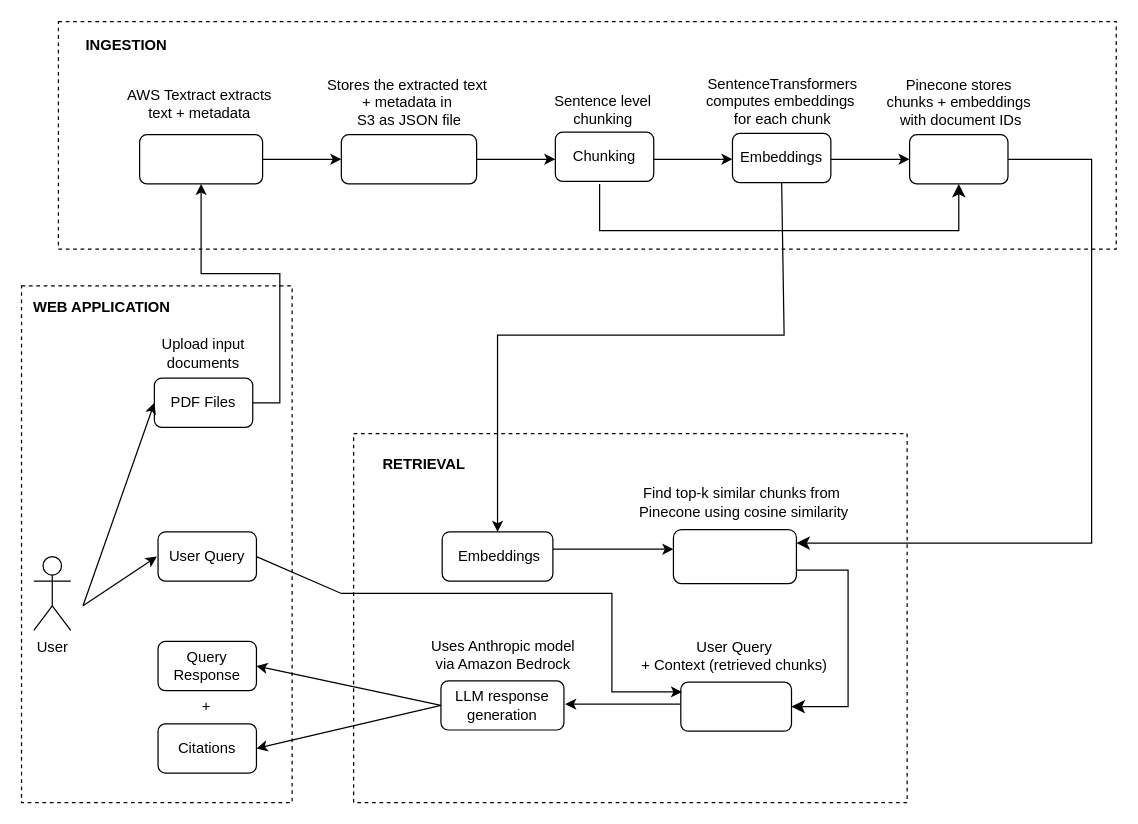
The diagram is 1138 pixels wide and 824 high, and some of its shapes have lost their labels. Each missing label, with the centre of its shape:
Context Augmentation: the point at 736,706
Extracted Text + Metadata Storage: the point at 408,158
Semantic Search: the point at 734,556
Text extraction: the point at 200,158
Vector Database: the point at 958,158
